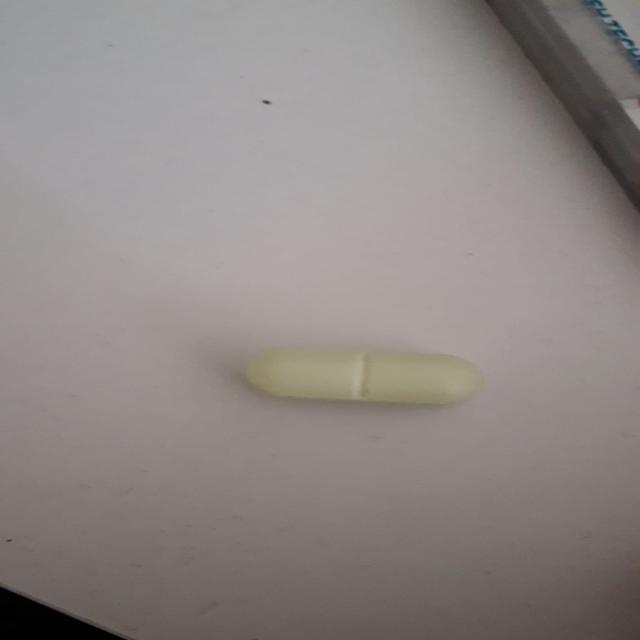pills: (235, 332, 494, 416)
